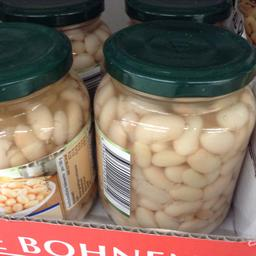beans: (98, 20, 252, 234), (0, 20, 88, 220)
